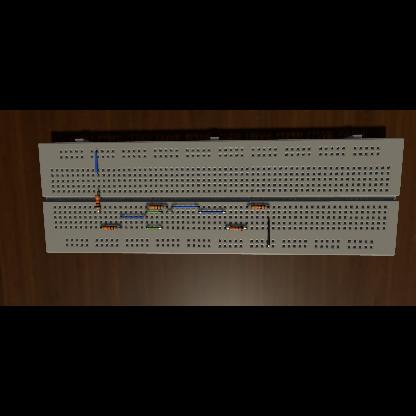breadboard: (38, 134, 404, 256)
resistor: (95, 195, 101, 209), (148, 205, 164, 209), (102, 226, 118, 230), (252, 205, 266, 209), (230, 227, 244, 231)
wire: (266, 217, 270, 247), (95, 150, 99, 176), (172, 206, 200, 208), (198, 211, 226, 213), (119, 217, 147, 219), (146, 227, 164, 229), (146, 211, 162, 213), (245, 206, 250, 208), (99, 209, 102, 212), (266, 206, 270, 208), (164, 206, 168, 208), (167, 211, 173, 212), (98, 192, 100, 194), (118, 228, 122, 229), (244, 228, 248, 229), (225, 228, 228, 229), (100, 228, 102, 229)
